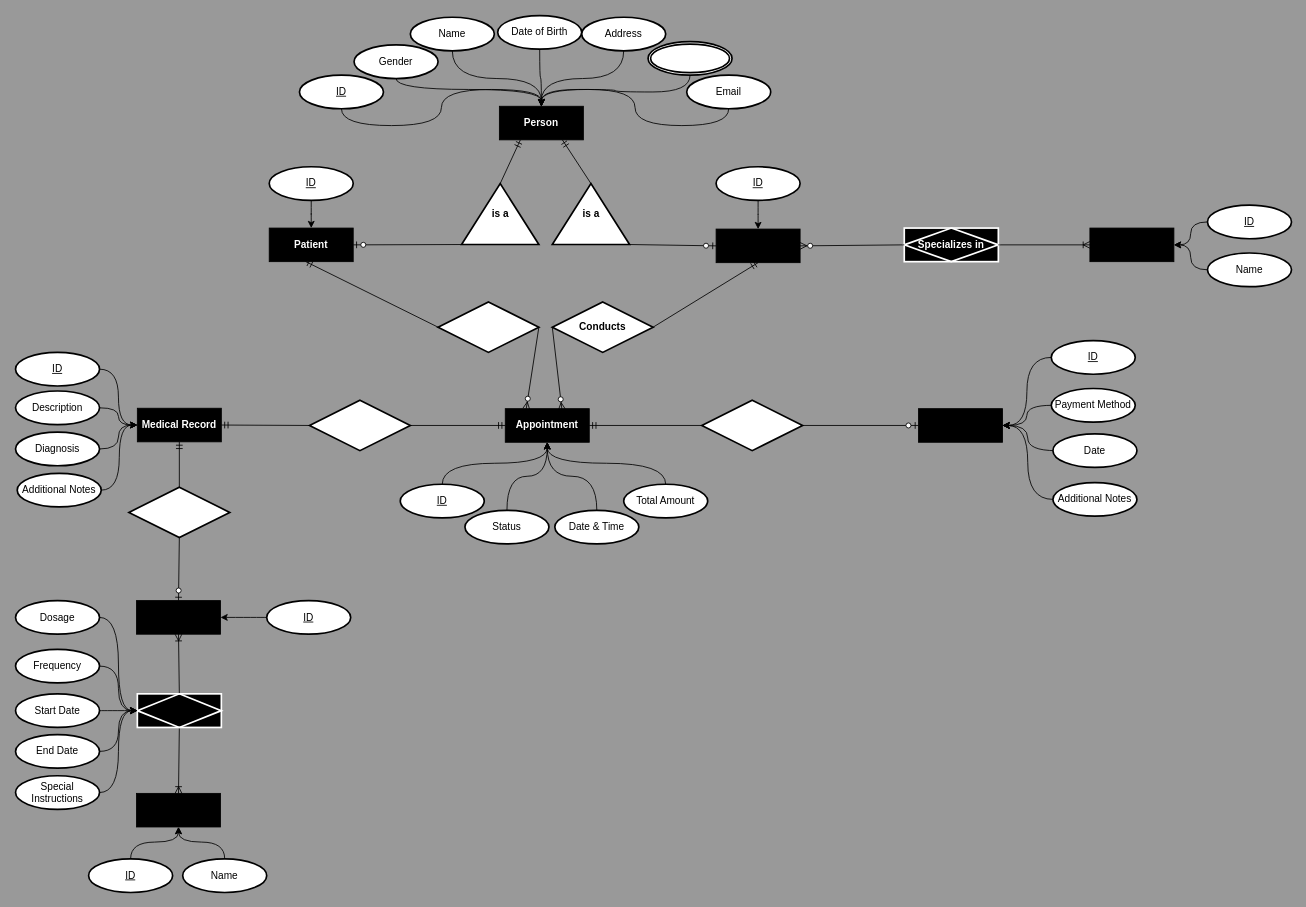
Image size: 1306x907. Some labels were removed from this diagram. The shapes that lost their labels are listed below. From the top down, each one's centre as x and y in pixels, then its label:
At (x=689, y=58): "Phone".
At (x=757, y=245): "Doctor".
At (x=1131, y=244): "Specialization".
At (x=488, y=327): "Books".
At (x=359, y=425): "Result in".
At (x=752, y=425): "Incurs".
At (x=960, y=425): "Payment".
At (x=179, y=512): "Include".
At (x=178, y=617): "Prescription".
At (x=179, y=710): "Prescribes".
At (x=178, y=810): "Medicine".
